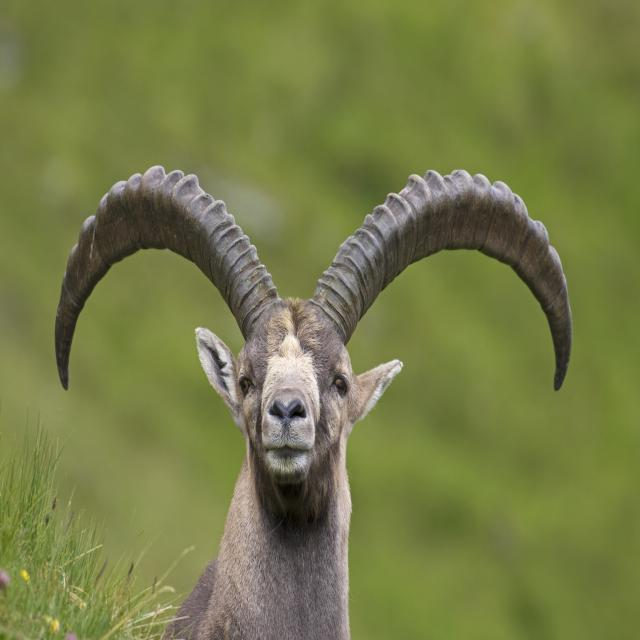Goat: (50, 163, 573, 640)
